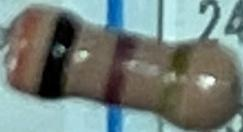Black: (34, 9, 84, 99)
Brown: (96, 30, 143, 106)
Orange: (7, 6, 53, 93)
Side-Gold: (156, 41, 196, 125)
